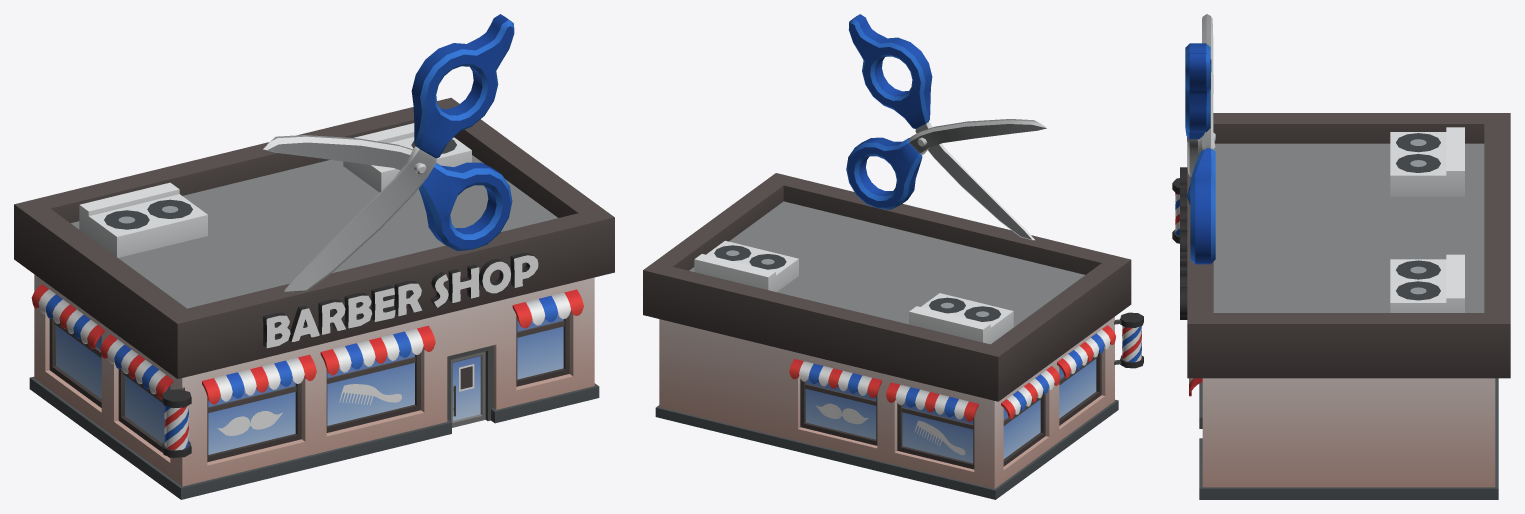
Rendered from barbershop_001.glb.
The picture shows the model from 3 angles, left to right: view 1: azimuth 30°, elevation 25°; view 2: azimuth 150°, elevation 25°; view 3: azimuth 270°, elevation 25°; orthographic projection. The views are drawn at different scales.
Visible parts, largest first — view 1: barbershop_001; view 2: barbershop_001; view 3: barbershop_001.
Boxes of the visible parts, x1,y1,x2,y2 form: barbershop_001: (14,14,614,499); barbershop_001: (643,14,1143,499); barbershop_001: (1172,14,1510,499).
Bounding box in the file's own units: 14.75 × 12.64 × 9.69.
Materials: 2 (2 with a texture image).
